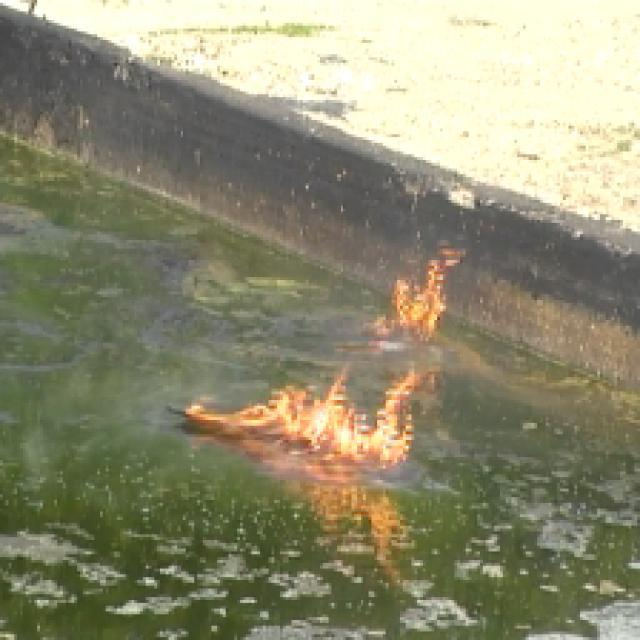Fire: (264, 384, 406, 468)
